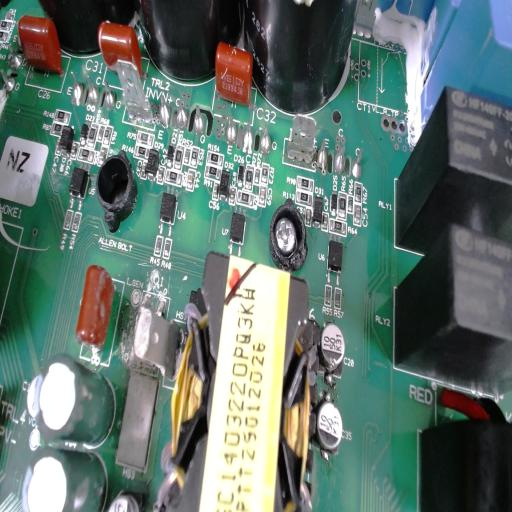pin_group: (219, 101, 277, 162), (65, 59, 120, 115), (153, 82, 207, 136), (314, 129, 368, 183)
solder_ball: (222, 109, 241, 145), (67, 65, 84, 104), (238, 117, 256, 153), (85, 70, 101, 108), (154, 89, 170, 127), (170, 101, 188, 129), (260, 121, 273, 158), (352, 142, 365, 179), (316, 134, 329, 169), (101, 80, 116, 110), (334, 140, 347, 174), (192, 98, 204, 133)
